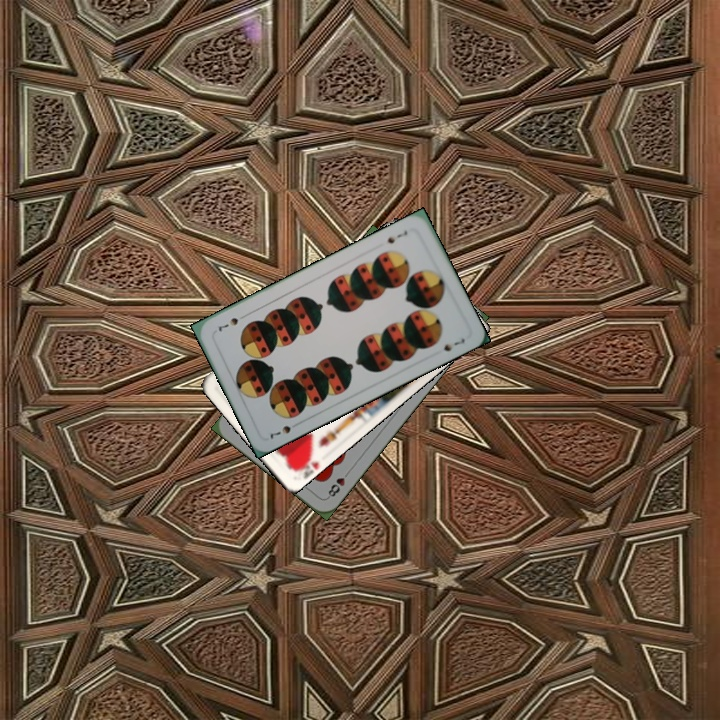H8: (323, 466, 353, 501)
HK: (289, 448, 322, 480)
S7: (266, 418, 302, 442), (383, 226, 410, 246)
